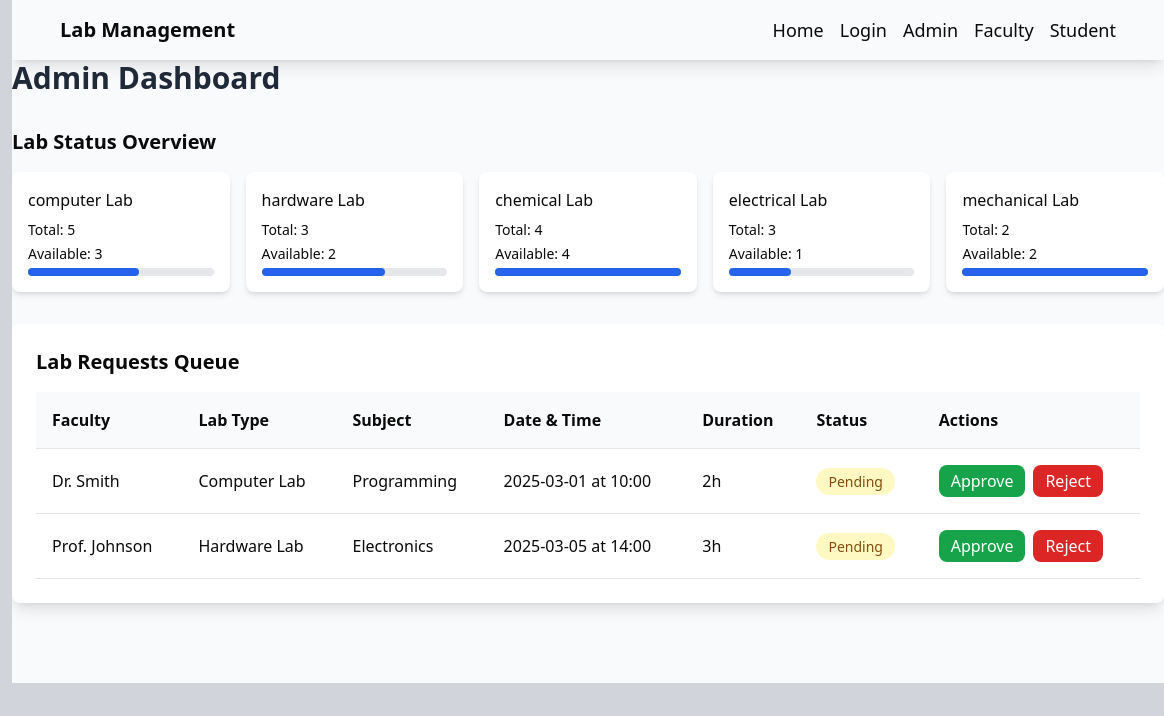
Lab Booking Request Approval & Rejection › shows error toast when a lab request is rejected
The width and height of the screenshot is (1164, 716).
expect the heading "Lab Requests Queue" is shown: met, box top-left (36, 348), bottom-right (240, 375)
// Click on the first pending request's "Reject" button
Click the button "Reject" in the row of "Dr. Smith".
click(1068, 481)  # box top-left (1033, 465), bottom-right (1103, 497)
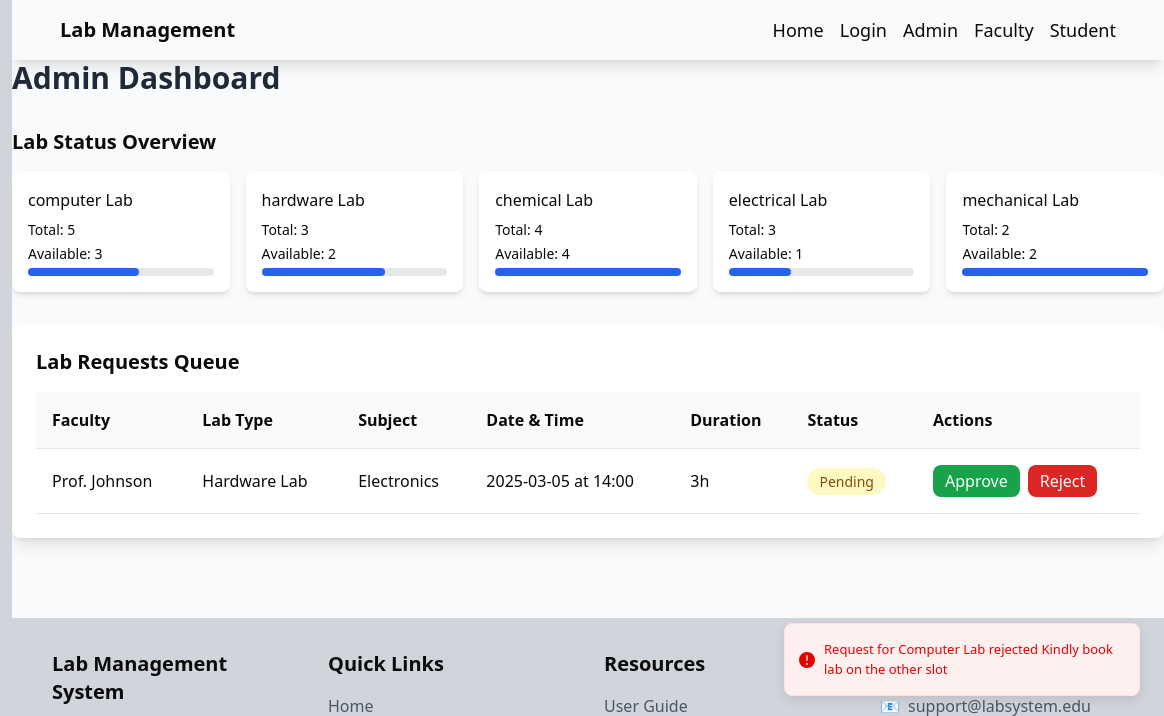
expect the text "Request for Computer Lab rejected Kindly book lab on the other slot" is shown: met, box top-left (824, 640), bottom-right (1123, 679)
